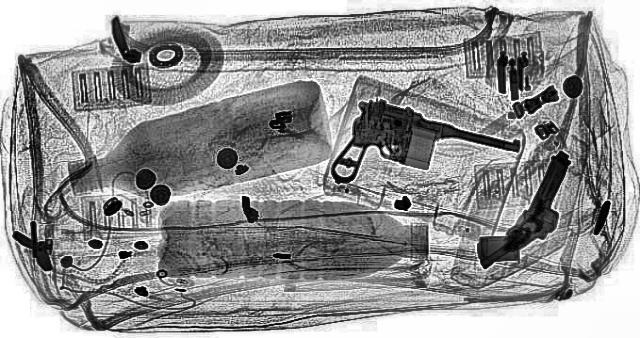Gun: (284, 95, 538, 213), (464, 150, 594, 272)
